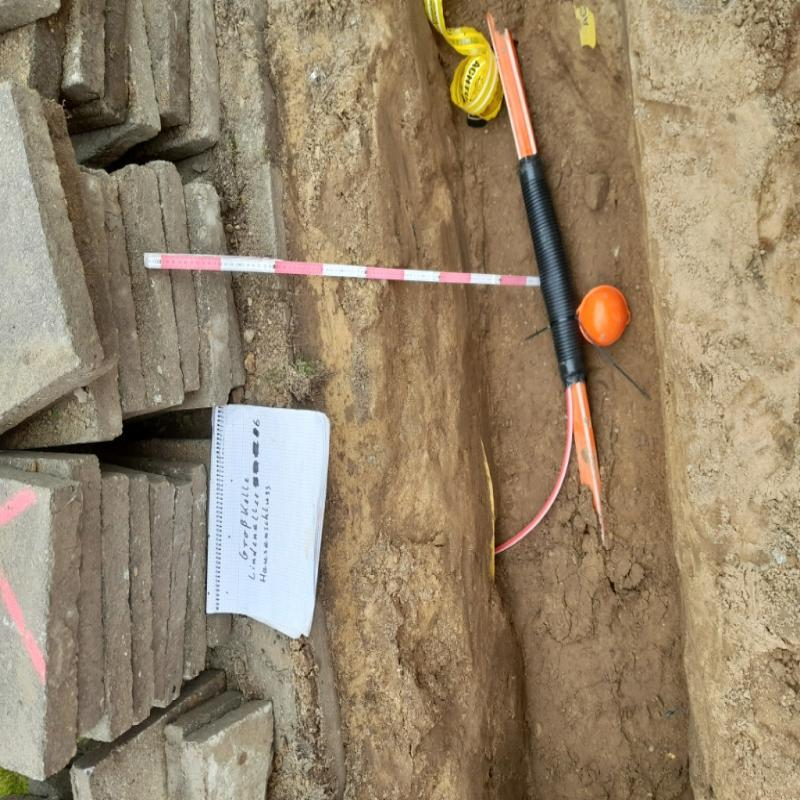Kugelmarker: (580, 285, 631, 349)
Orang-Speednetrohrchen: (490, 22, 601, 498)
